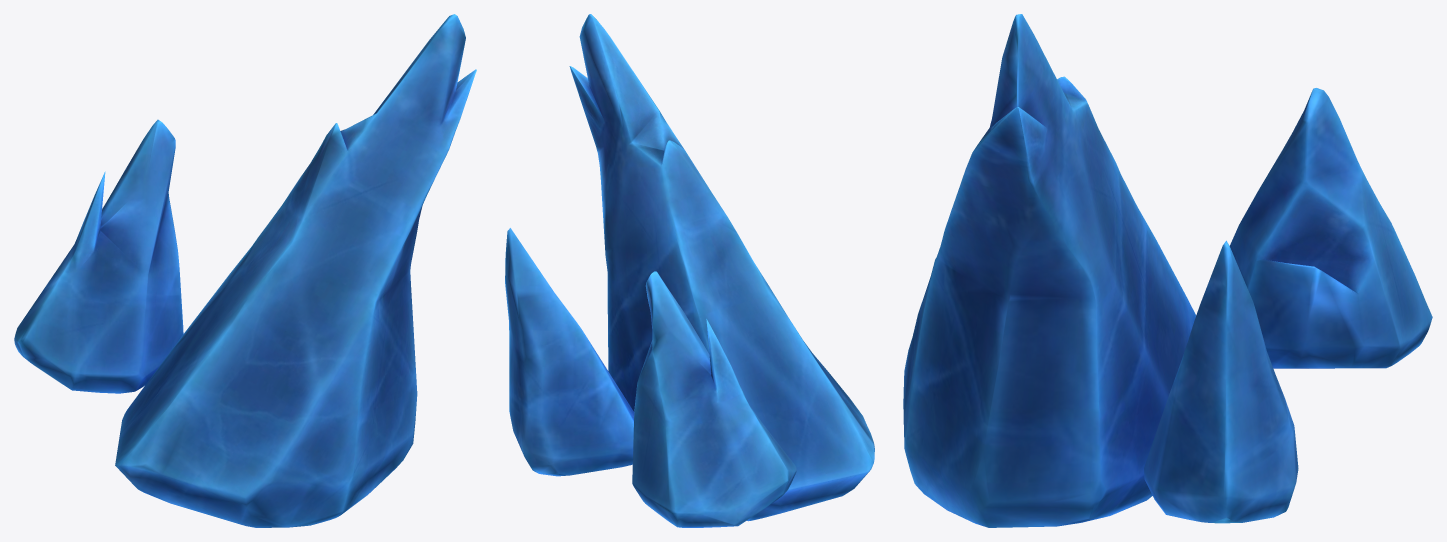
File: glacia_shard_giant_d_far.glb
The picture shows the model from 3 angles, left to right: view 1: azimuth 30°, elevation 25°; view 2: azimuth 150°, elevation 25°; view 3: azimuth 270°, elevation 25°; orthographic projection. The views are drawn at different scales.
Parts seen in each view (by area): view 1: SM_GLCA_STL_IceSplinter_01D; view 2: SM_GLCA_STL_IceSplinter_01D; view 3: SM_GLCA_STL_IceSplinter_01D.
Part boxes in pixels (x1,y1,x2,y2): SM_GLCA_STL_IceSplinter_01D: (14,14,476,527); SM_GLCA_STL_IceSplinter_01D: (505,14,874,527); SM_GLCA_STL_IceSplinter_01D: (903,14,1432,527).
Size of the model in its own units: 33.97 by 41.72 by 34.41.
1 material, 1 textured.
